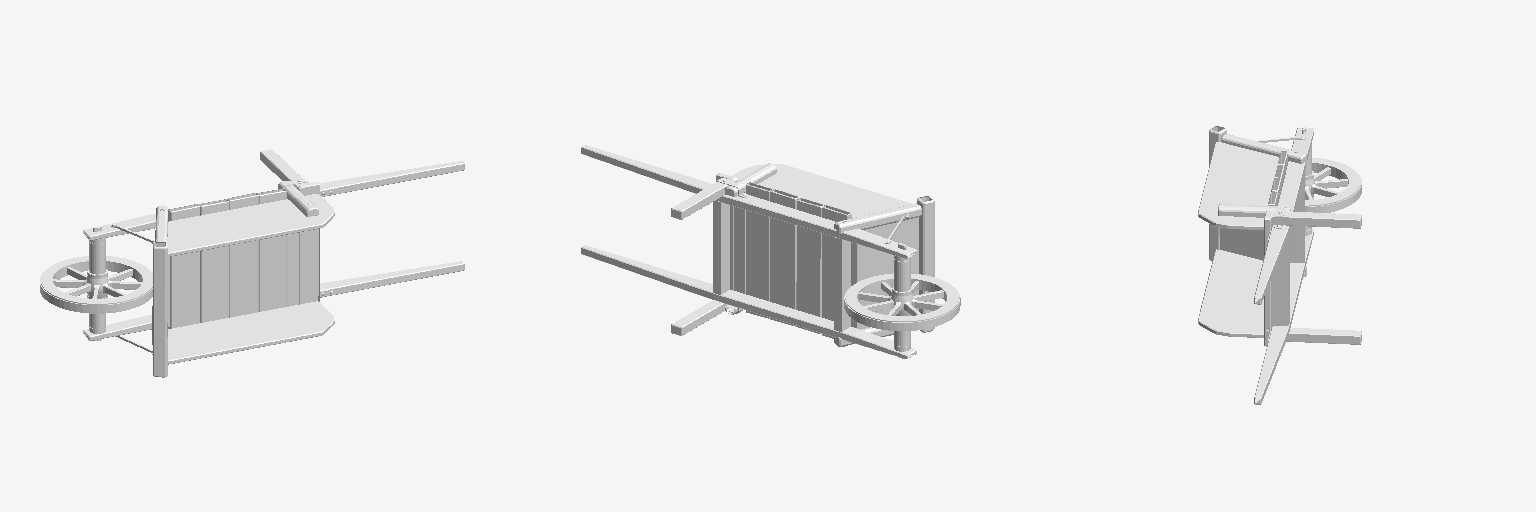
File: Old_Wooden_Cart_V2_obj.obj
3 renders of one model, left to right at view 1: azimuth 30°, elevation 25°; view 2: azimuth 150°, elevation 25°; view 3: azimuth 270°, elevation 25°, orthographic.
Visible parts, largest first — view 1: Old_Wooden_Cart_V2_Cart_V2_Parts, Old_Wooden_Cart_V2_1; view 2: Old_Wooden_Cart_V2_Cart_V2_Parts, Old_Wooden_Cart_V2_1; view 3: Old_Wooden_Cart_V2_Cart_V2_Parts, Old_Wooden_Cart_V2_1.
Part boxes in pixels (left/top/right/bottom): Old_Wooden_Cart_V2_Cart_V2_Parts: left=83, top=149, right=464, bottom=377; Old_Wooden_Cart_V2_1: left=40, top=238, right=152, bottom=333; Old_Wooden_Cart_V2_Cart_V2_Parts: left=581, top=145, right=934, bottom=358; Old_Wooden_Cart_V2_1: left=844, top=255, right=960, bottom=351; Old_Wooden_Cart_V2_Cart_V2_Parts: left=1198, top=126, right=1361, bottom=404; Old_Wooden_Cart_V2_1: left=1305, top=144, right=1361, bottom=235.
Size of the model in its own units: 193 by 61.58 by 69.95.